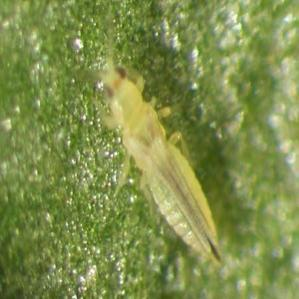melon thrips: (76, 39, 250, 281)
